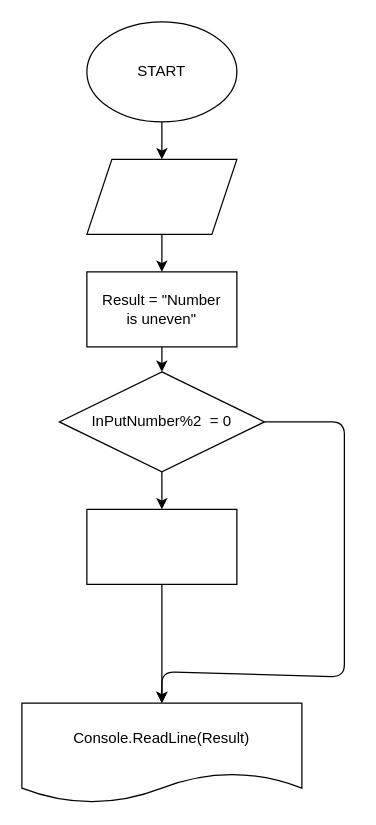
The diagram is 376 pixels wide and 825 high, and some of its shapes have lost their labels. Here are the shapes that lost their labels. From the top down, the centre of each, then its label:
[161,196]: InPutNumber
[161,546]: Result = "Number is even"
